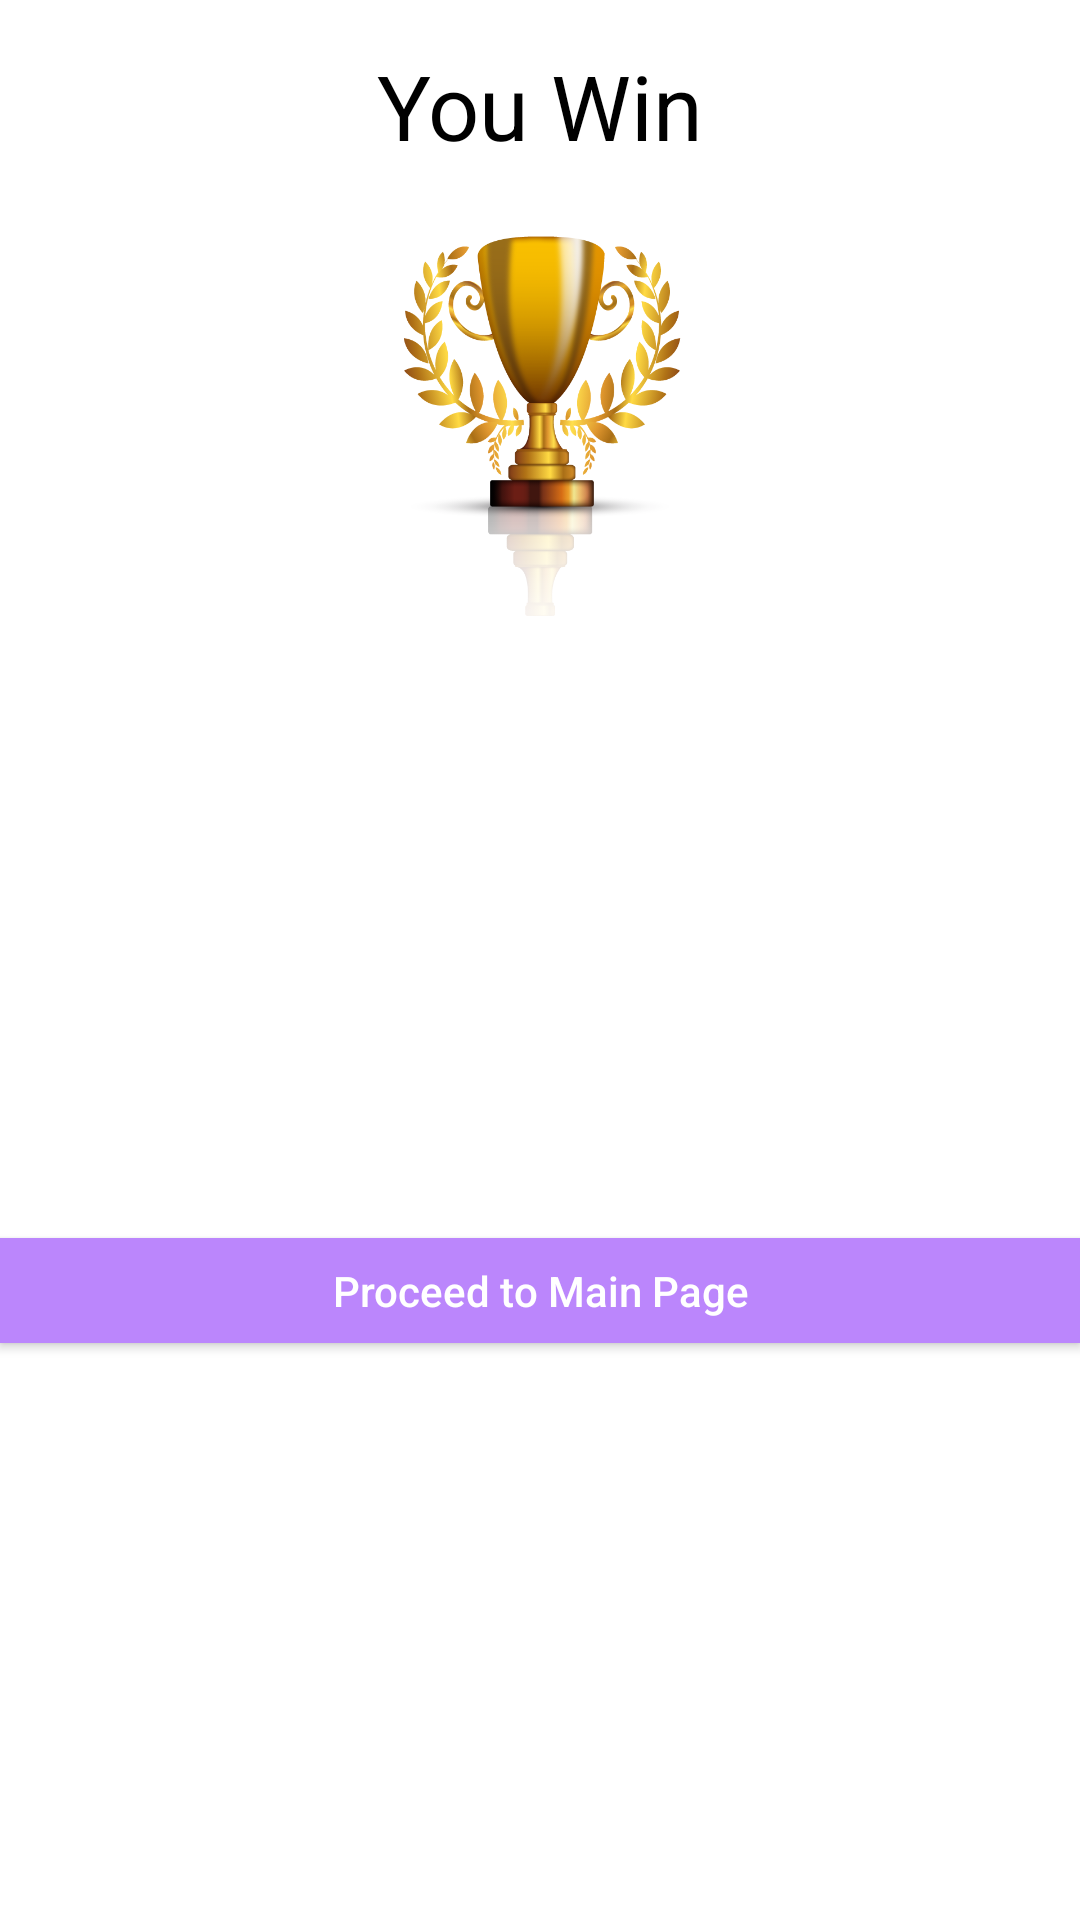

Where to tap for icons on this 1080px x 1920px app screen, as (x=x, y=y):
Trophy Image: (x=542, y=414)
